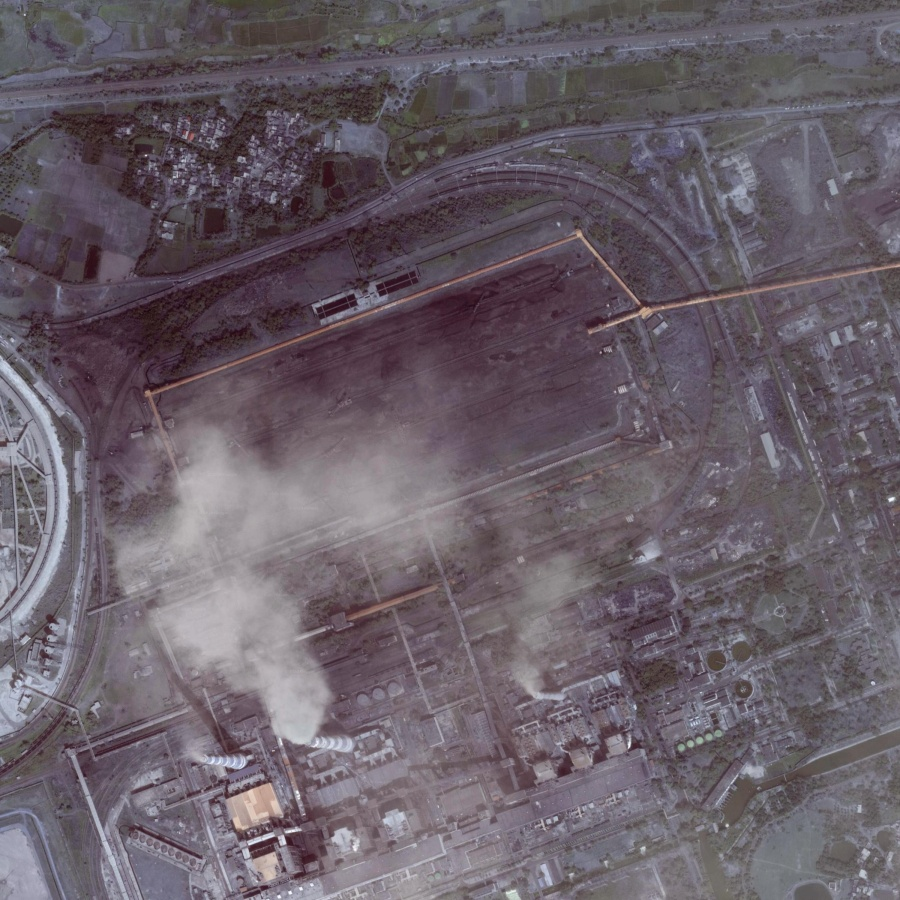PowerPlant: (95, 243, 676, 638)
